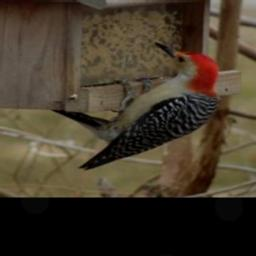Woodpecker: (61, 40, 226, 165)
